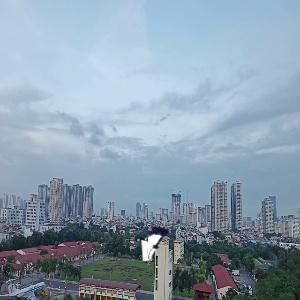drone: (137, 207, 191, 261)
